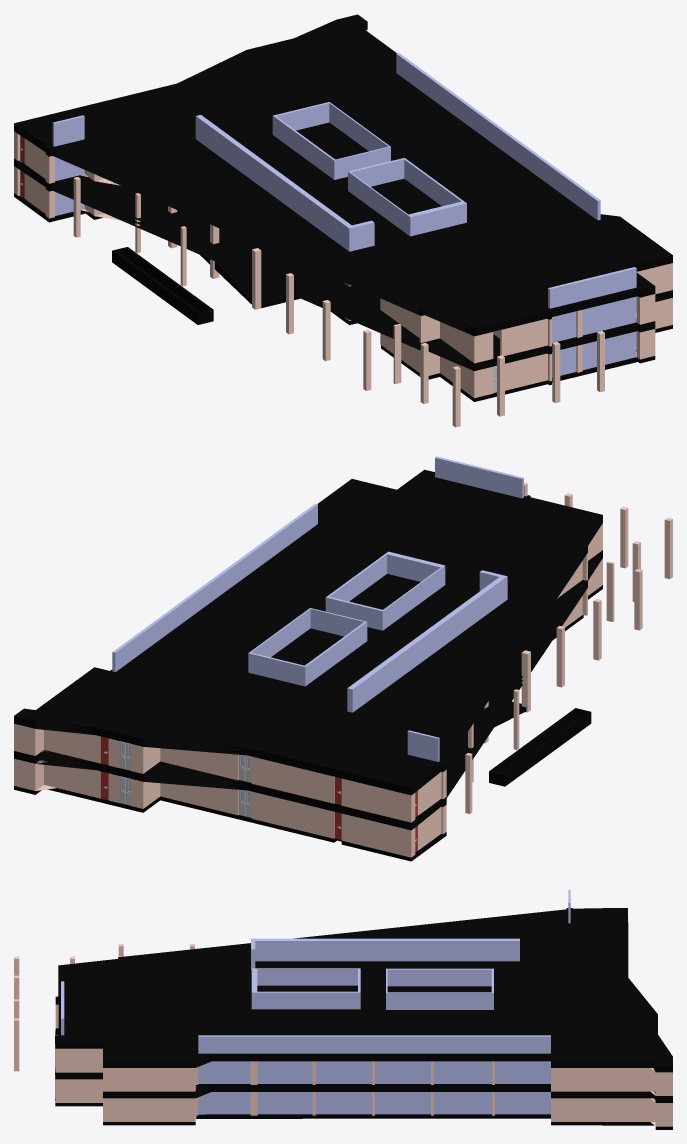
3 views of the same model, one above another, from view 1: azimuth 30°, elevation 25°; view 2: azimuth 150°, elevation 25°; view 3: azimuth 270°, elevation 25° (orthographic). The views are drawn at different scales.
Parts seen in each view (by area): view 1: BL|M_Concrete-Rectangular-Column - C 40X140-2763625-GROUND . (×9); view 2: BL|M_Concrete-Rectangular-Column - C 40X140-2763625-GROUND . (×9); view 3: BL|M_Concrete-Rectangular-Column - C 40X140-2763625-GROUND . (×8).
Boxes of the visible parts, box(x1,y1,x2,y2) form: BL|M_Concrete-Rectangular-Column - C 40X140-2763625-GROUND . (×9): box(14, 14, 672, 427); BL|M_Concrete-Rectangular-Column - C 40X140-2763625-GROUND . (×9): box(14, 456, 672, 861); BL|M_Concrete-Rectangular-Column - C 40X140-2763625-GROUND . (×8): box(14, 890, 672, 1129).
Size of the model in its own units: 5001 by 1250 by 8825.
